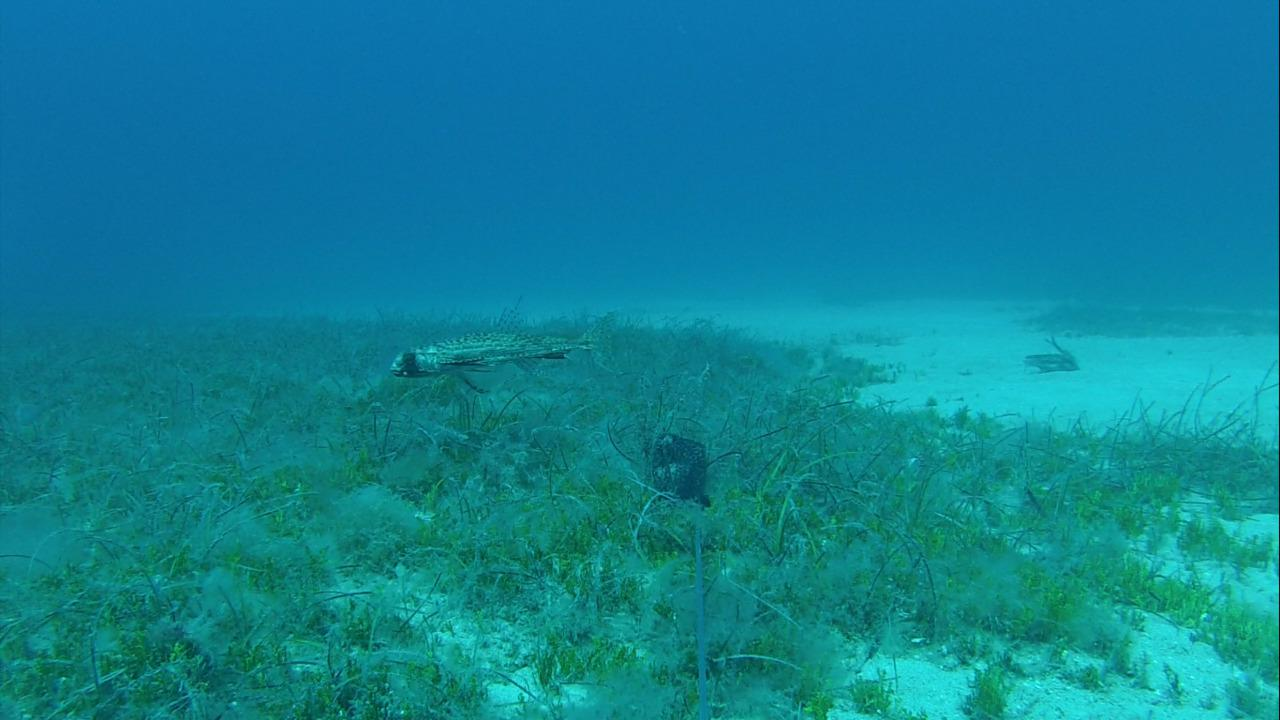dactylopterus: (379, 297, 618, 384)
